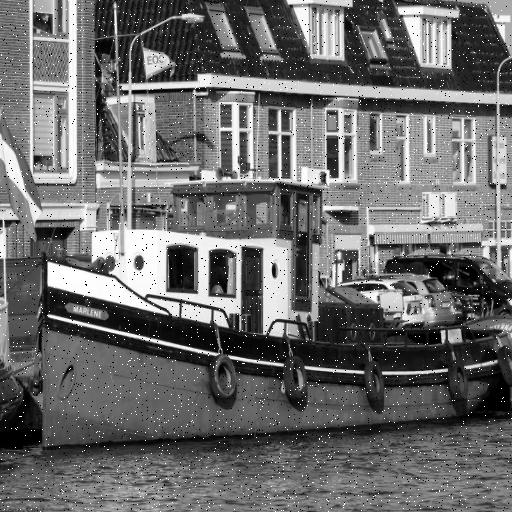tugboat: (38, 161, 512, 462)
